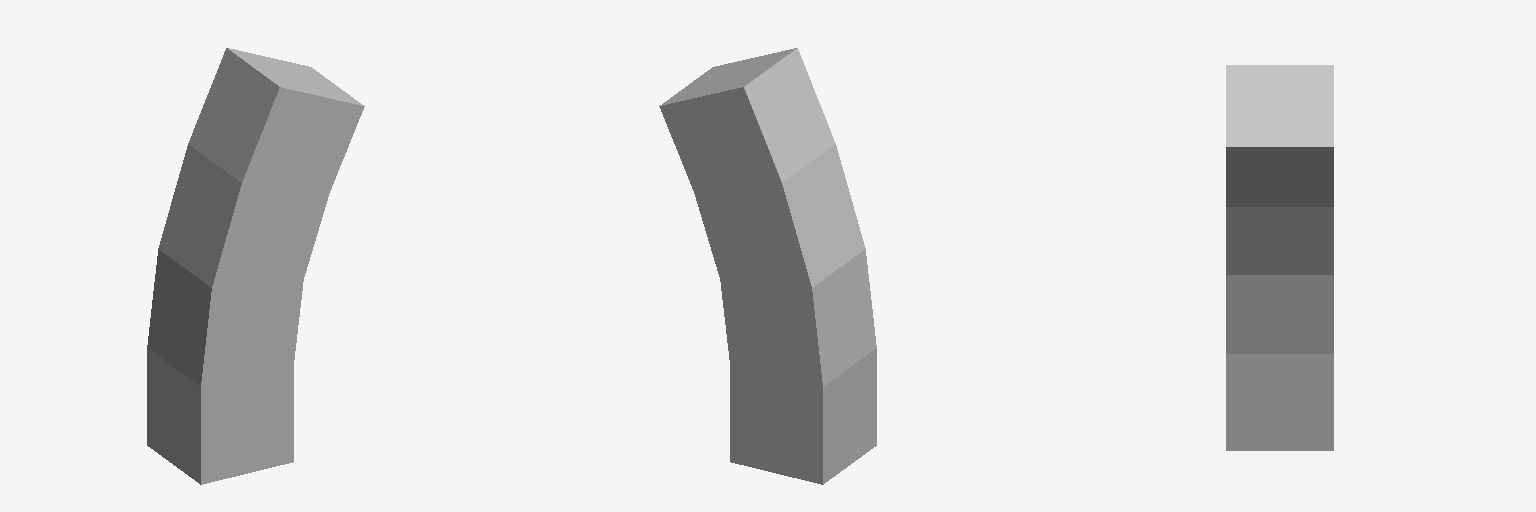
File: Animation_000006.obj
3 renders of one model, left to right at view 1: azimuth 30°, elevation 25°; view 2: azimuth 150°, elevation 25°; view 3: azimuth 270°, elevation 25°, orthographic.
Parts seen in each view (by area): view 1: Cube; view 2: Cube; view 3: Cube.
Boxes of the visible parts, <box> form: Cube: <box>147,48,364,484</box>; Cube: <box>659,48,876,484</box>; Cube: <box>1226,65,1333,450</box>.
Bounding box in the file's own units: 2.35 × 5.18 × 1.33.